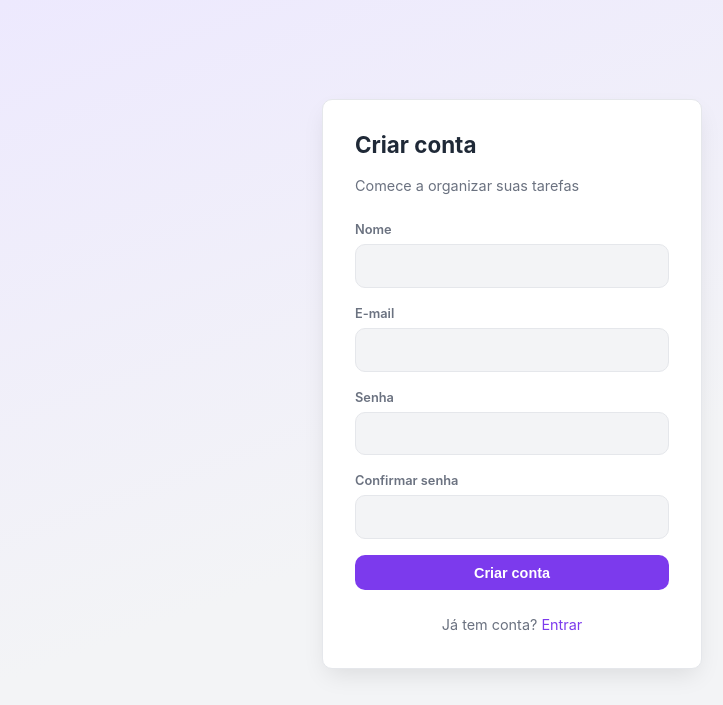
Test: RegisterPage › shows validation error for short password
This screenshot has width=723, height=705.
Type "12" into the password field with test id "register-password" at (512, 433), box [355,412,669,455]
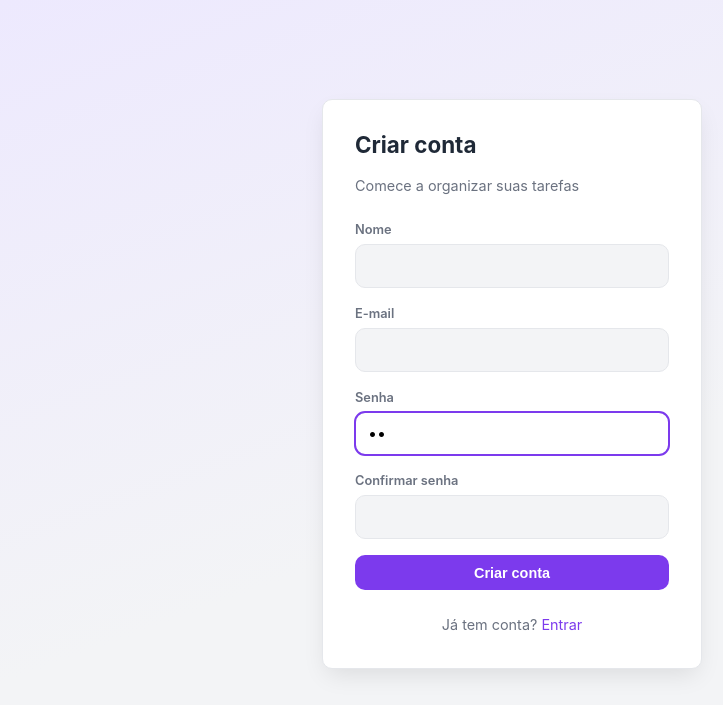
Press Tab
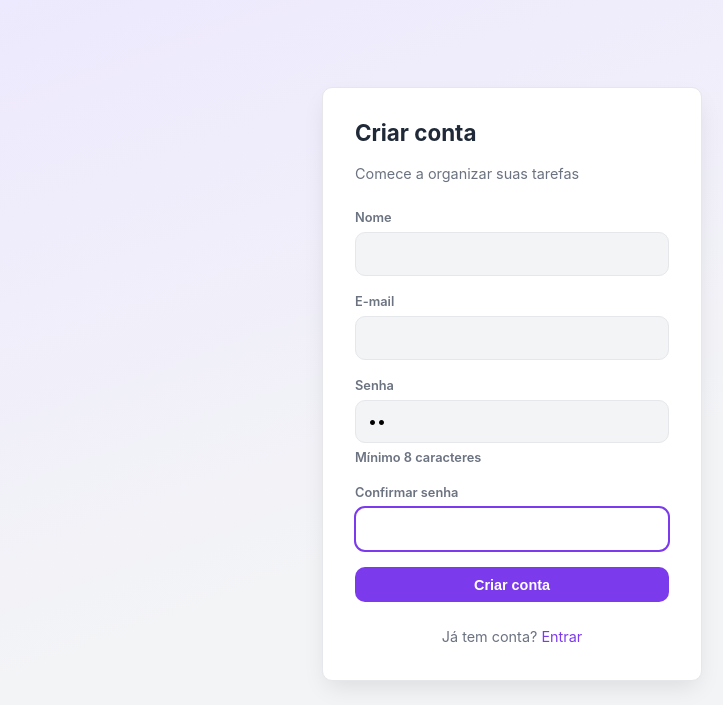
Expected: the text "Mínimo 8 caracteres" is shown, [355,450,481,465]
